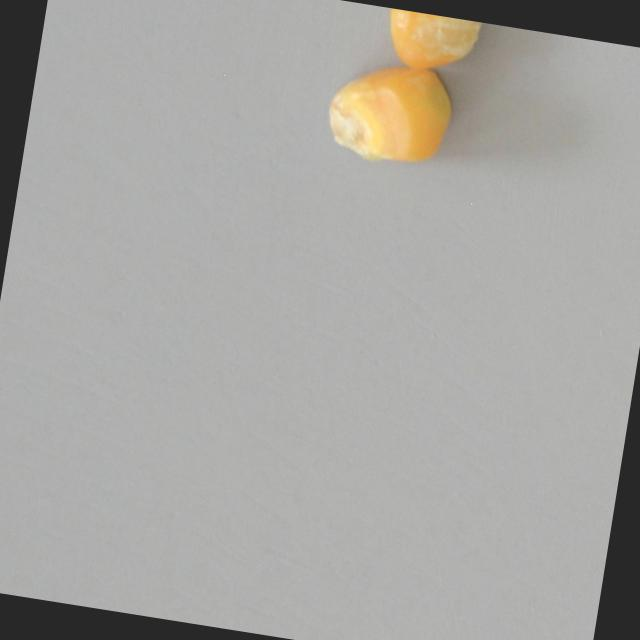entero: (319, 55, 463, 174)
no_desgerminado: (384, 7, 485, 76)
